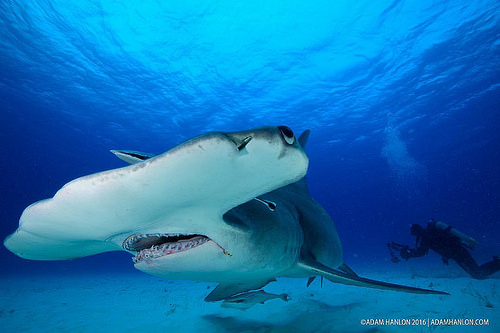shark: (7, 110, 455, 313)
